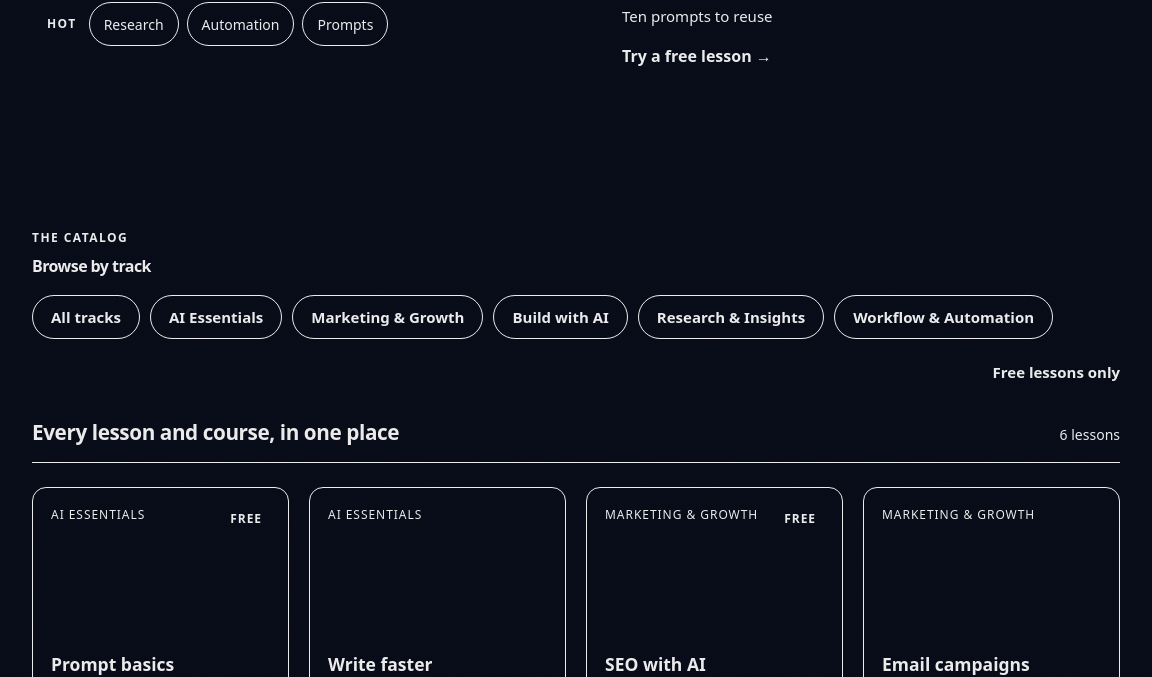
Test: Learn catalog filtering › a track chip presses, filters and sets the track headline
This screenshot has width=1152, height=677.
(page scrolled)
Click the button "Marketing & Growth": click(388, 317) [292,295,484,339]
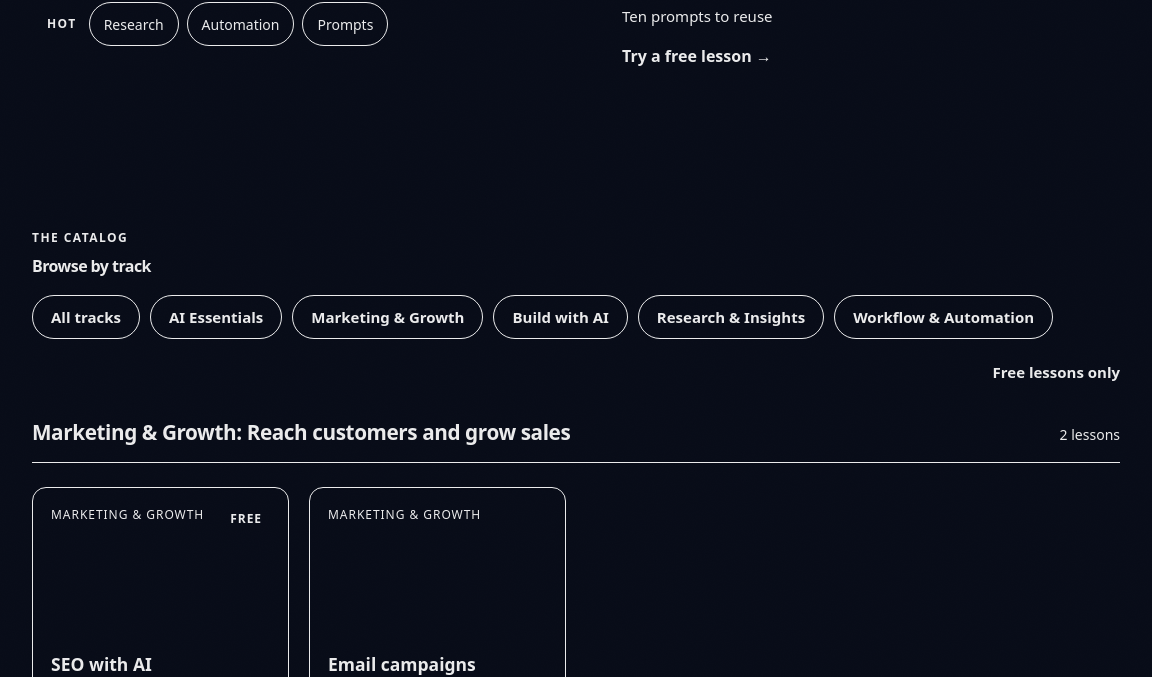
Check: the text "Marketing & Growth: Reach customers and grow sales" is shown, box [32,417,570,448]
